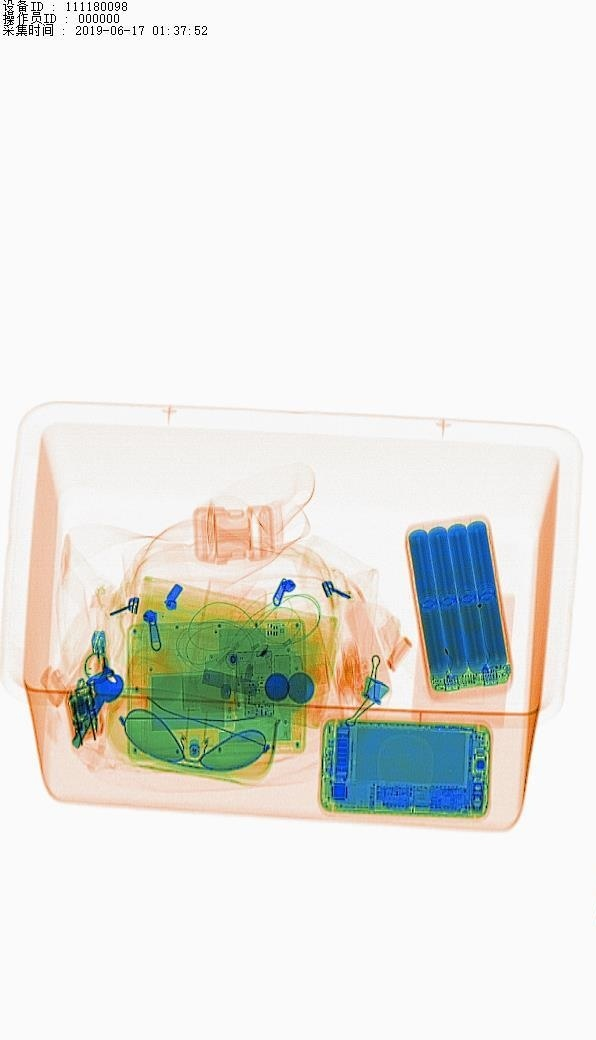NonmetallicFire: (78, 618, 133, 725)
